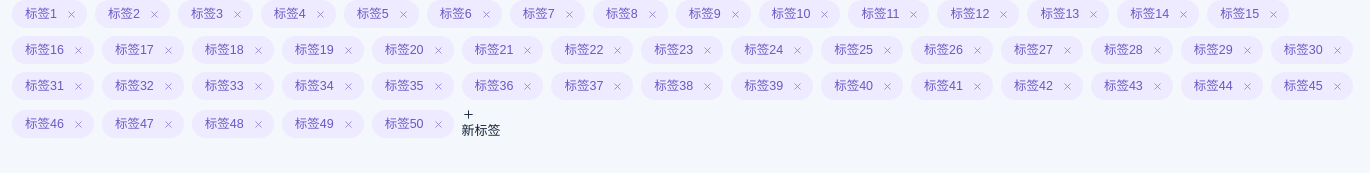
达到 50 个上限后拒绝第 51 个并给出提示
This screenshot has width=1370, height=173.
Click the button "新标签" at (481, 124), box [462,108,500,140]
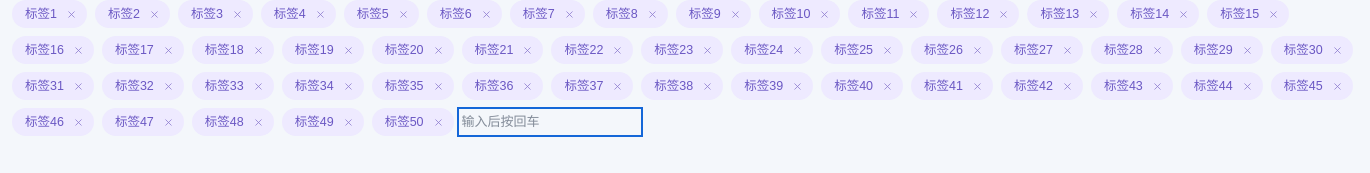
Type "第 51 个" into the field with placeholder "输入后按回车" at (550, 122), box [462,112,638,132]
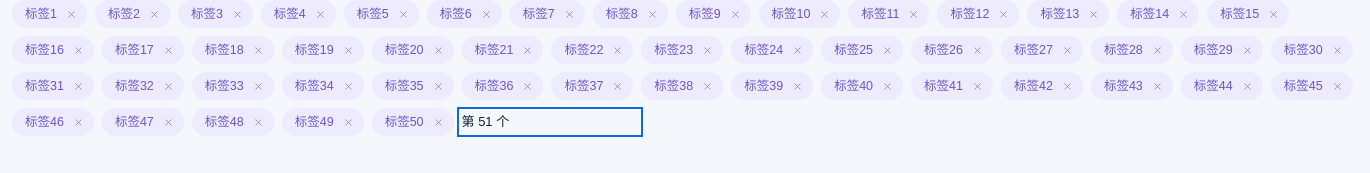
Press Enter in the field with placeholder "输入后按回车", box [462,112,638,132]
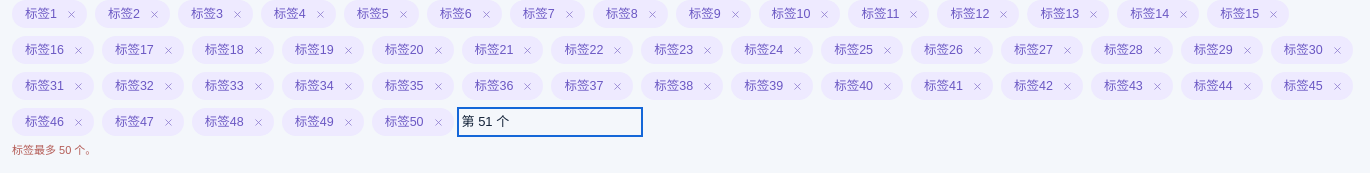
Check: the text "标签最多 50 个。" is shown, box [12,144,96,156]
